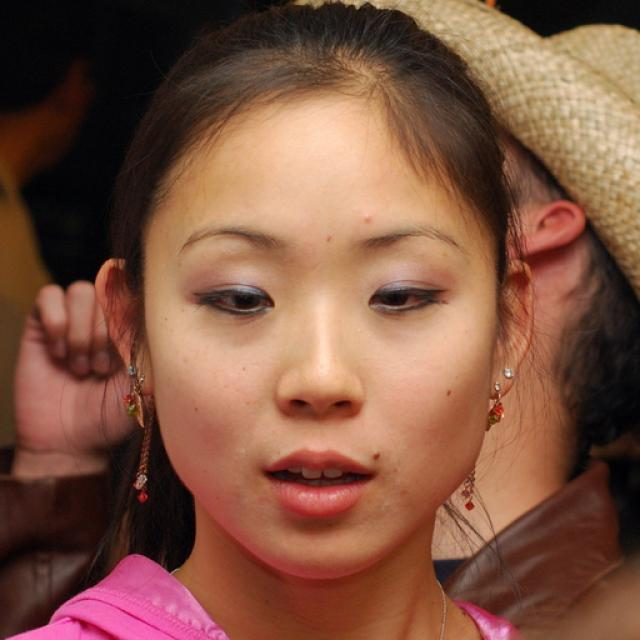Acne: (352, 205, 376, 230), (369, 445, 383, 466)
